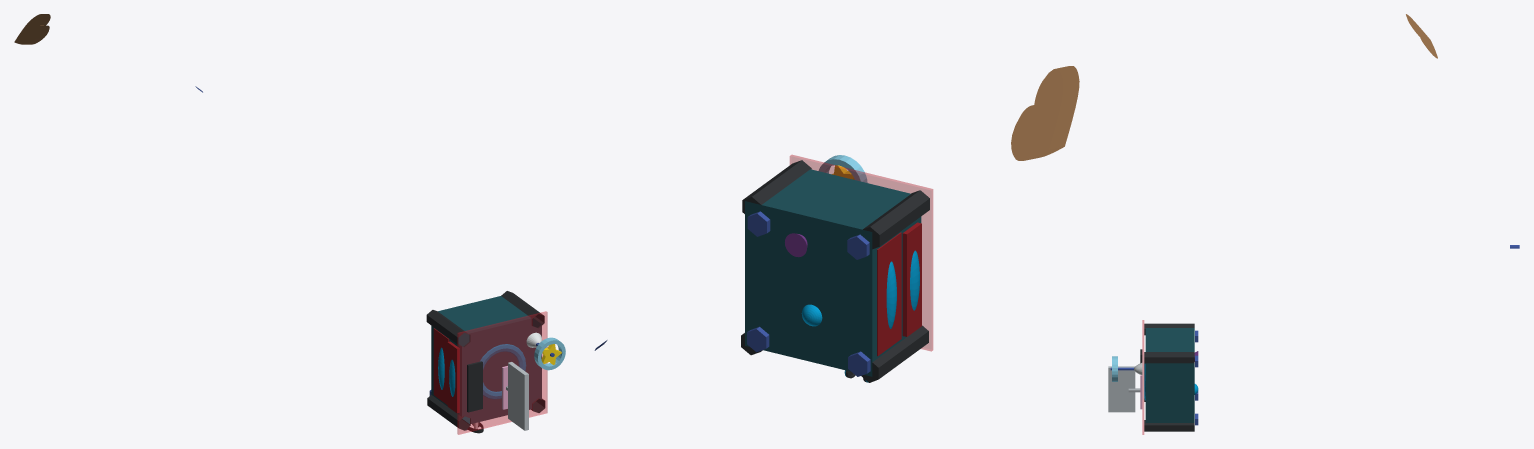
Rendered from tinker.obj.
The picture shows the model from 3 angles, left to right: view 1: azimuth 30°, elevation 25°; view 2: azimuth 150°, elevation 25°; view 3: azimuth 270°, elevation 25°; orthographic projection. The views are drawn at different scales.
Visible parts, largest first — view 1: group_0_1855578, group_0_-1024910035, group_0_2829873, group_0_9771553, group_0_12568524, group_0_40919, group_0_11107152, group_0_8768998; view 2: group_0_1855578, group_0_2829873, group_0_11107152, group_0_9771553, group_0_-1024910035, group_0_3888547, group_0_40919, group_0_8768998; view 3: group_0_1855578, group_0_2829873, group_0_12568524.
Boxes of the visible parts, box(x1,y1,x2,y2) form: group_0_1855578: box(431, 296, 541, 423); group_0_-1024910035: box(457, 311, 547, 434); group_0_2829873: box(426, 291, 545, 433); group_0_9771553: box(433, 328, 459, 413); group_0_12568524: box(508, 362, 528, 430); group_0_40919: box(438, 344, 526, 429); group_0_11107152: box(14, 14, 50, 44); group_0_8768998: box(534, 337, 565, 370); group_0_1855578: box(745, 169, 921, 376); group_0_2829873: box(741, 160, 929, 382); group_0_11107152: box(1011, 66, 1079, 160); group_0_9771553: box(877, 222, 921, 356); group_0_-1024910035: box(790, 155, 932, 351); group_0_3888547: box(594, 211, 870, 376); group_0_40919: box(801, 250, 919, 382); group_0_8768998: box(819, 155, 867, 182); group_0_1855578: box(1145, 328, 1194, 422); group_0_2829873: box(1140, 323, 1194, 431); group_0_12568524: box(1108, 366, 1135, 412).
Bounding box in the file's own units: 503 × 510 × 639.
